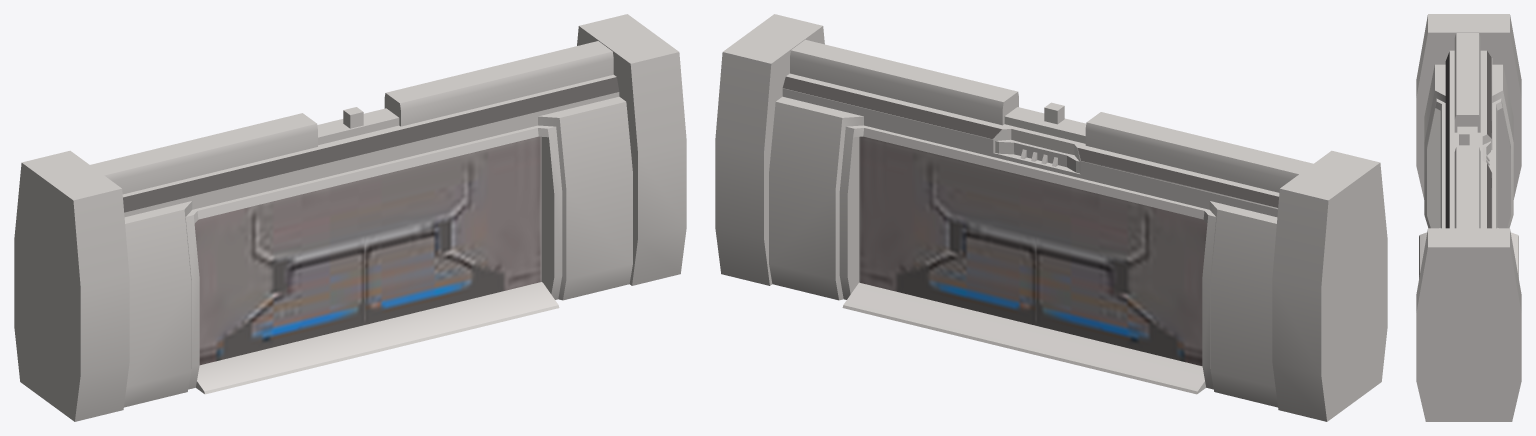
The model's file is 门（拉伸版）.FBX.
The picture shows the model from 3 angles, left to right: view 1: azimuth 30°, elevation 25°; view 2: azimuth 150°, elevation 25°; view 3: azimuth 270°, elevation 25°; orthographic projection. The views are drawn at different scales.
Parts seen in each view (by area): view 1: WM_Wall_01_a003, WM_Wall_01_Door_r003, WM_Wall_01_Door_l003; view 2: WM_Wall_01_a003, WM_Wall_01_Door_r003, WM_Wall_01_Door_l003; view 3: WM_Wall_01_a003.
Part boxes in pixels (left/top/right/bottom): WM_Wall_01_a003: left=14, top=14, right=686, bottom=421; WM_Wall_01_Door_r003: left=364, top=136, right=541, bottom=324; WM_Wall_01_Door_l003: left=194, top=179, right=364, bottom=365; WM_Wall_01_a003: left=715, top=14, right=1387, bottom=421; WM_Wall_01_Door_r003: left=859, top=136, right=1036, bottom=325; WM_Wall_01_Door_l003: left=1036, top=179, right=1207, bottom=365; WM_Wall_01_a003: left=1416, top=14, right=1521, bottom=421.
Size of the model in its own units: 3108 by 1084 by 592.
